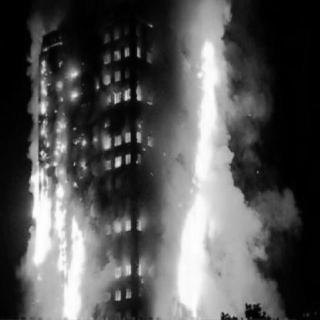Fire: (181, 25, 225, 318)
